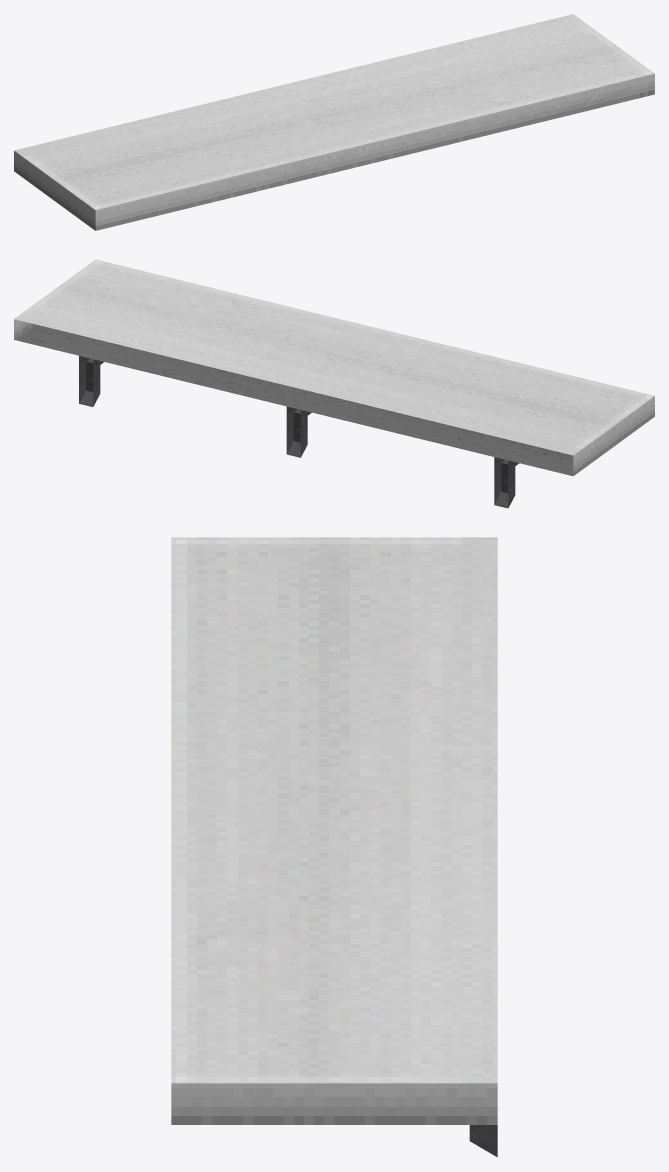
File: wall-shelf_clean.glb
3 renders of one model, top to bottom at view 1: azimuth 30°, elevation 25°; view 2: azimuth 150°, elevation 25°; view 3: azimuth 270°, elevation 25°, orthographic. The views are drawn at different scales.
Visible parts, largest first — view 1: wall-shelf_clean-col; view 2: wall-shelf_clean-col; view 3: wall-shelf_clean-col.
Boxes of the visible parts, x1,y1,x2,y2 form: wall-shelf_clean-col: (14,14,654,230); wall-shelf_clean-col: (14,259,654,508); wall-shelf_clean-col: (171,537,497,1157).
Bounding box in the file's own units: 0.99 × 0.1164 × 0.25.
1 material, 1 textured.
